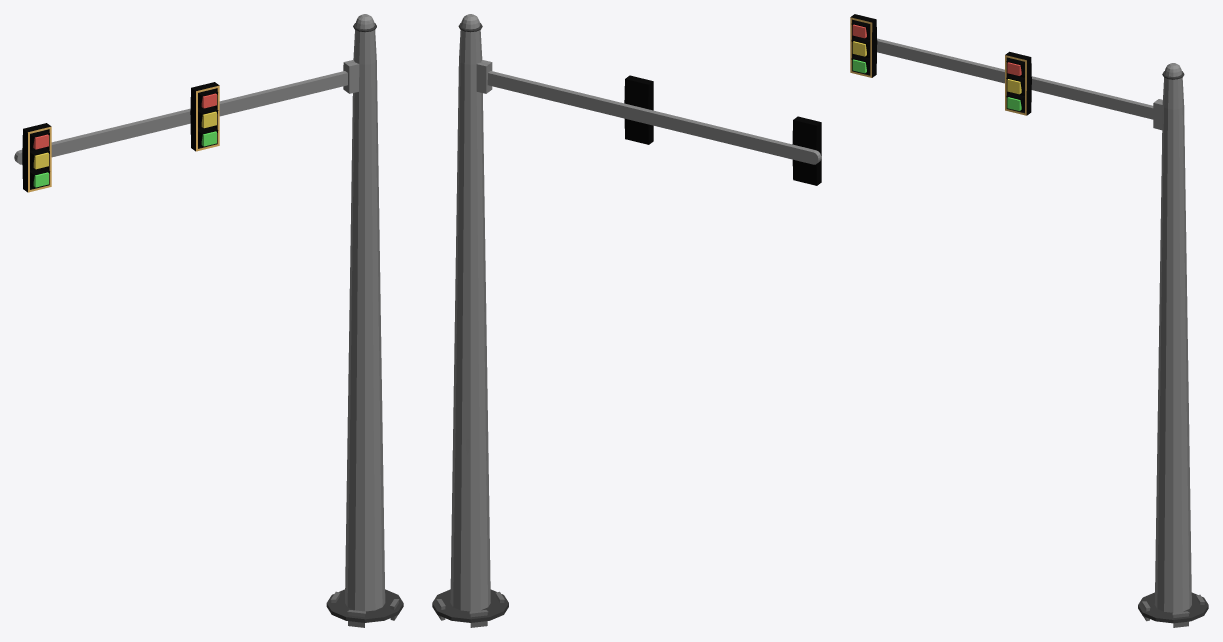
The model's file is Traffic_Lights.fbx.
3 renders of one model, left to right at view 1: azimuth 30°, elevation 25°; view 2: azimuth 150°, elevation 25°; view 3: azimuth 330°, elevation 25°, orthographic. The views are drawn at different scales.
Parts seen in each view (by area): view 1: TrafficLight; view 2: TrafficLight; view 3: TrafficLight.
Part boxes in pixels (x1=…): TrafficLight: x1=14, y1=14, x2=403, y2=627; TrafficLight: x1=432, y1=14, x2=821, y2=627; TrafficLight: x1=850, y1=14, x2=1208, y2=627.
Bounding box in the file's own units: 155 × 232 × 27.07.
